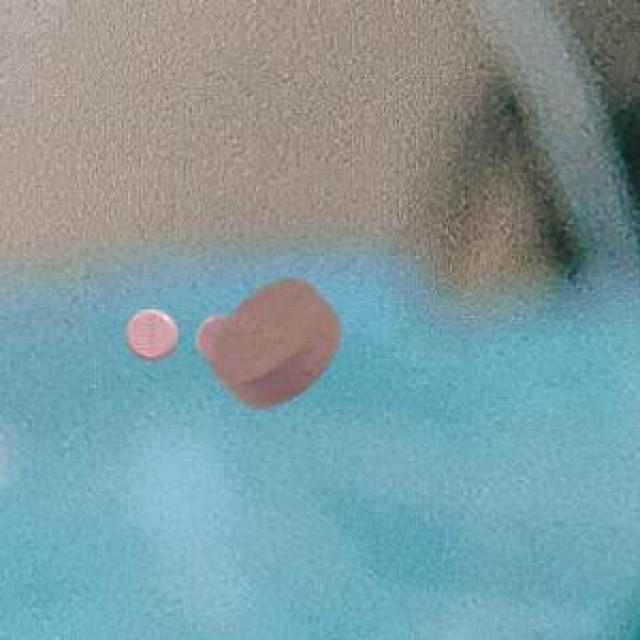Kremil_S: (192, 268, 346, 419), (115, 300, 187, 370)
